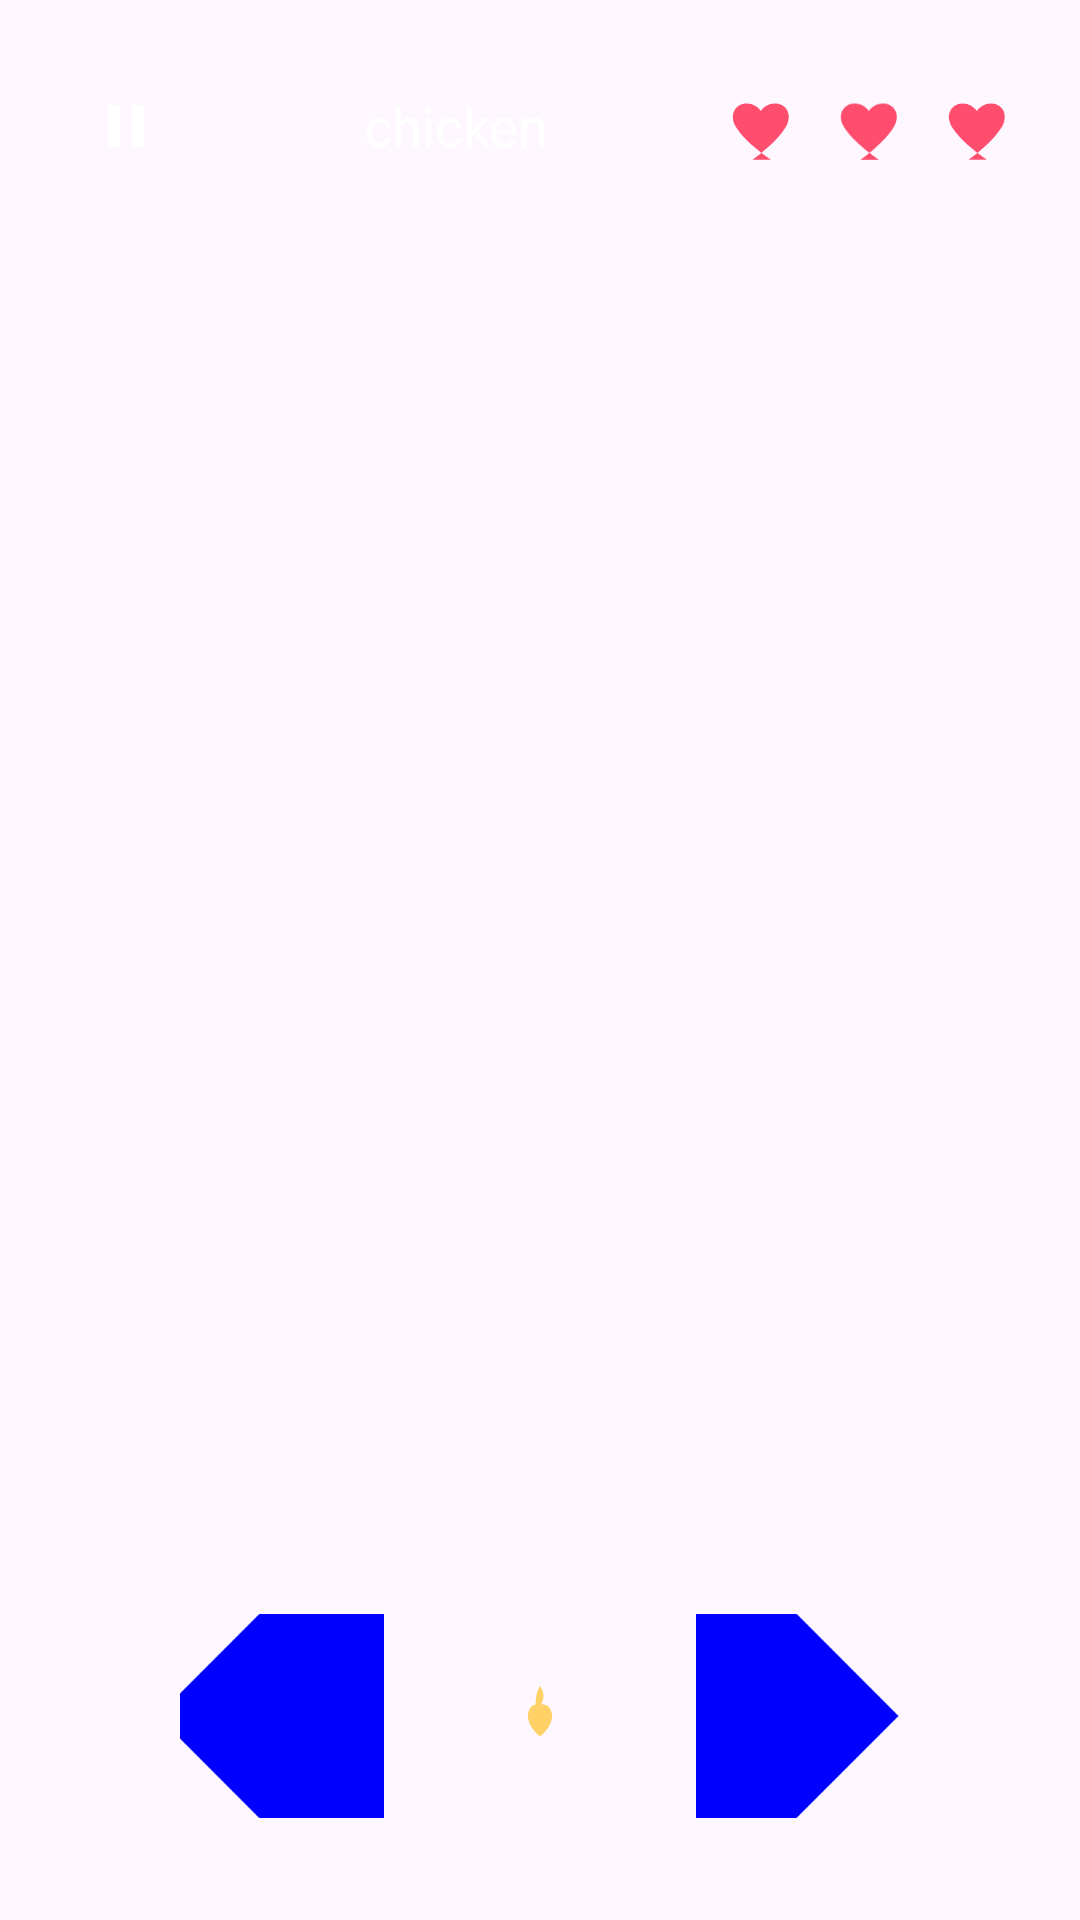

Where to tap for icons on this 1080px x 1920px app screen, as point (x, y):
arrow left: point (282, 1716)
arrow right: point (797, 1716)
fire: point (540, 1711)
heart full: point (761, 131), point (868, 131), point (977, 131)
